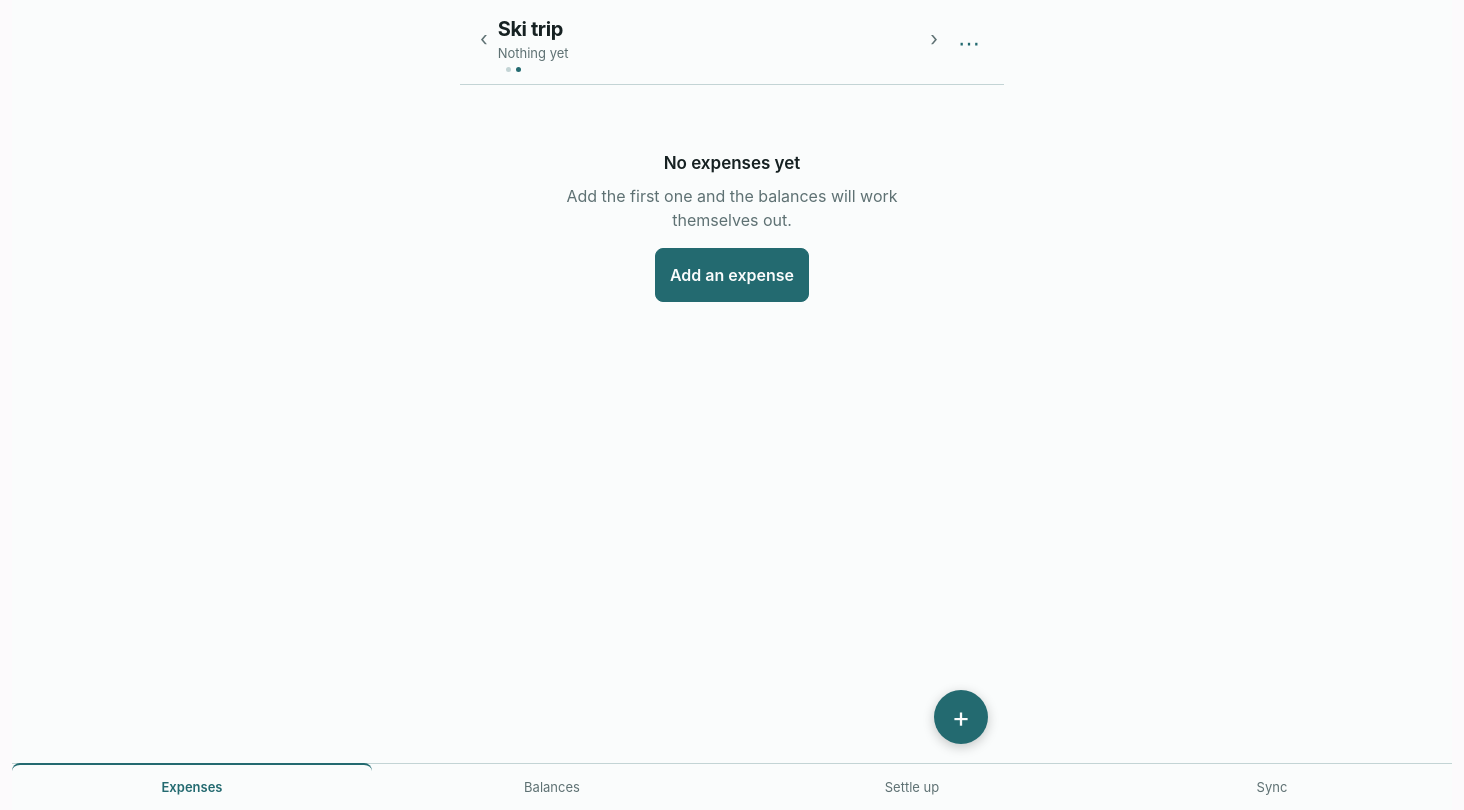
Test case: with a ledger › switches group from the title bar when there is more than one
The image size is (1464, 810).
Expected: the button named "previous group" is shown, [476, 27, 492, 51]
Expected: the heading "Ski trip" is shown, [498, 14, 920, 44]
Click the button named "next group". click: [934, 39]
box: [926, 27, 942, 51]
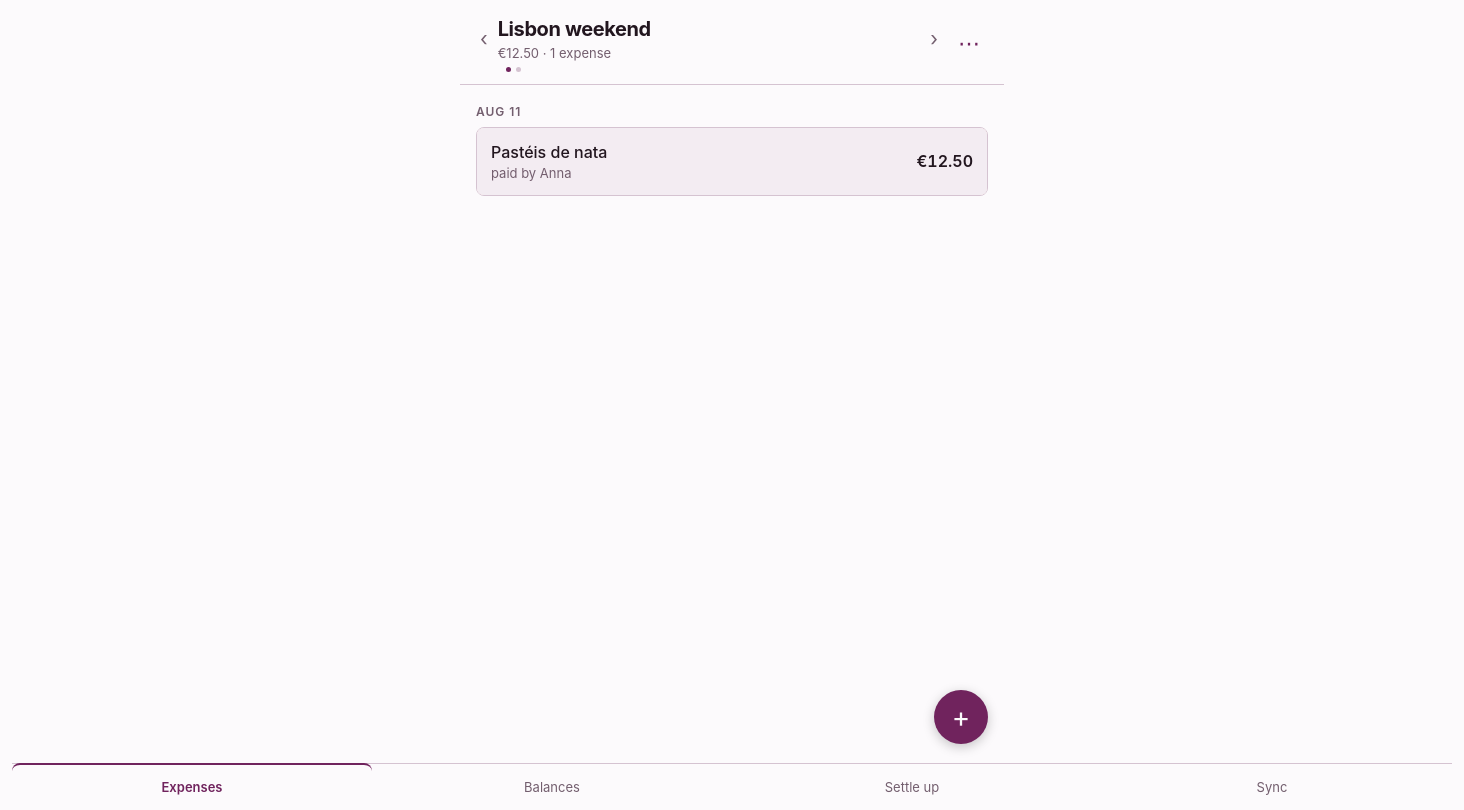
Result: the heading "Lisbon weekend" is shown at [498, 14, 920, 44]
